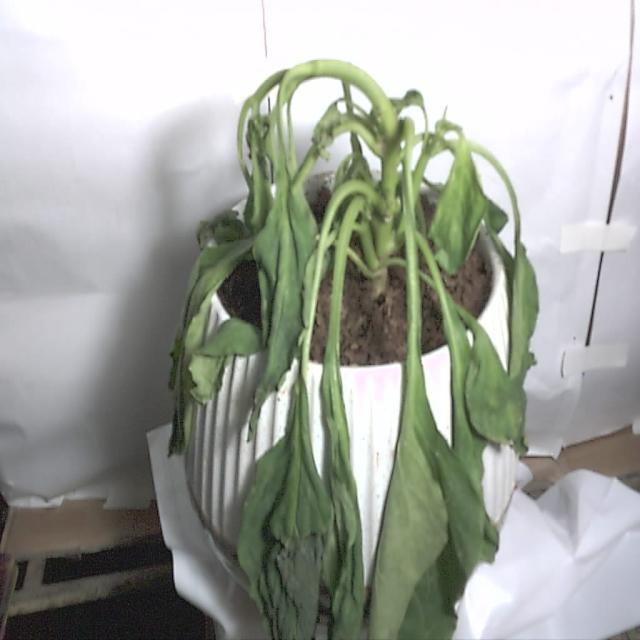Leaf: (365, 362, 486, 640), (233, 389, 335, 640)
